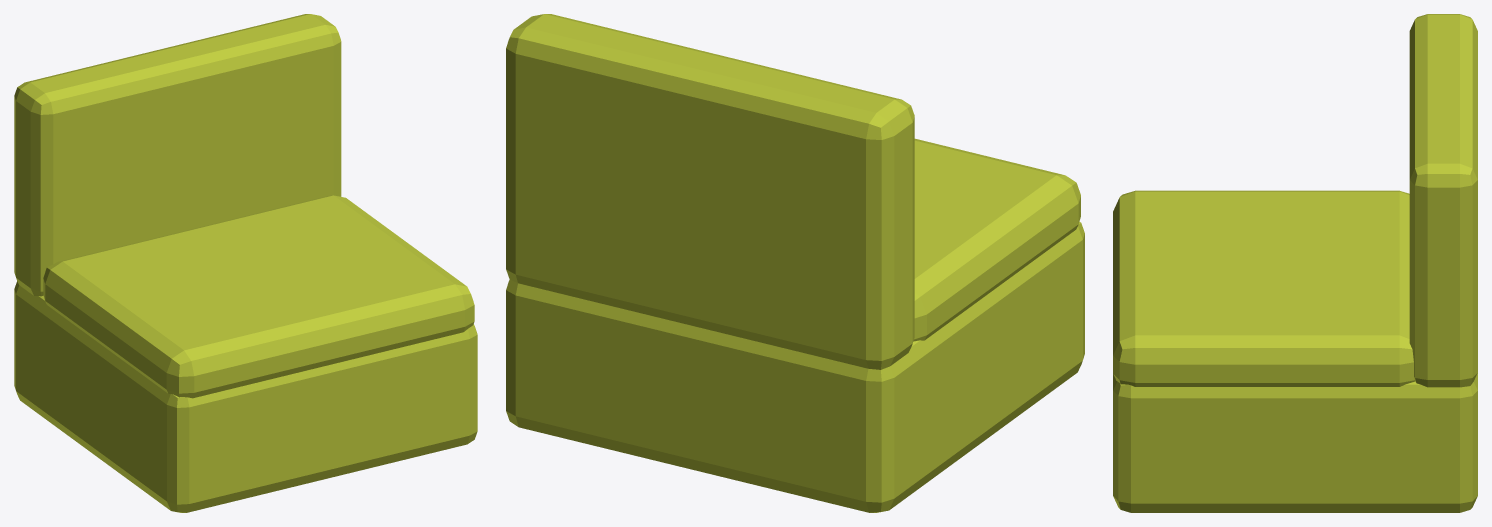
File: SM_L1_Furniture_Solid_16c17b117f_0.fbx
3 views of the same model, side by side, from view 1: azimuth 30°, elevation 25°; view 2: azimuth 150°, elevation 25°; view 3: azimuth 270°, elevation 25° (orthographic). The views are drawn at different scales.
Parts seen in each view (by area): view 1: SM_L1_Furniture_Solid_16c17b117f_0; view 2: SM_L1_Furniture_Solid_16c17b117f_0; view 3: SM_L1_Furniture_Solid_16c17b117f_0.
Part boxes in pixels (box(x1,y1,x2,y2)): SM_L1_Furniture_Solid_16c17b117f_0: box(14, 14, 477, 512); SM_L1_Furniture_Solid_16c17b117f_0: box(506, 14, 1084, 512); SM_L1_Furniture_Solid_16c17b117f_0: box(1113, 14, 1477, 512).
Size of the model in its own units: 0.97 by 0.91 by 0.96.
